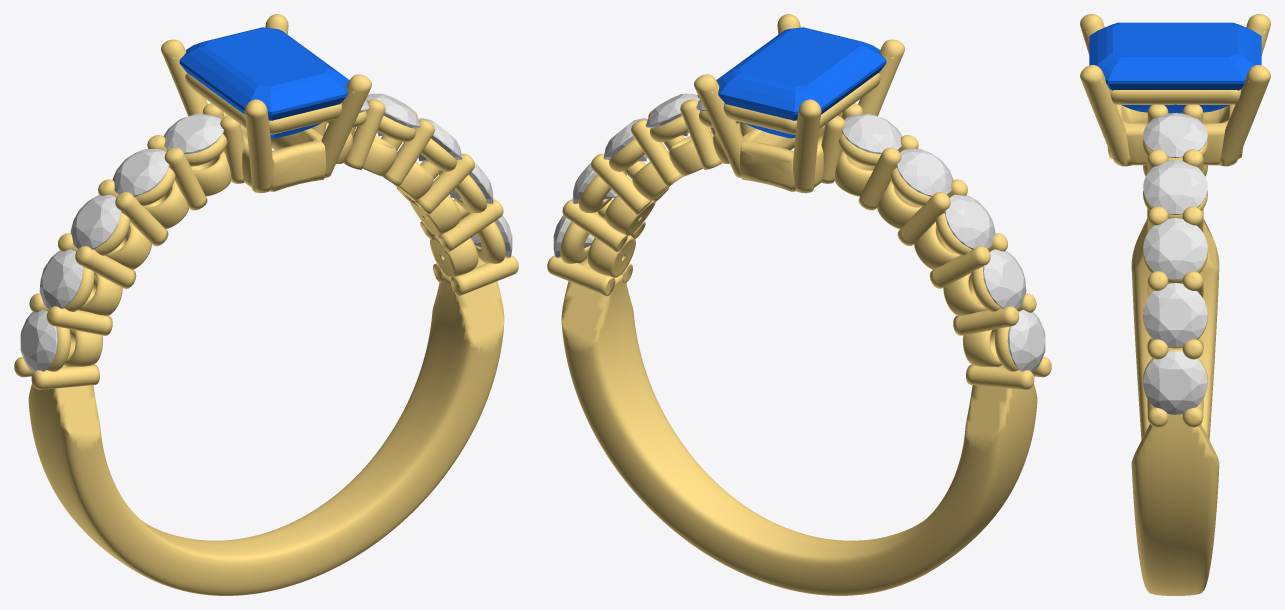
The model's file is bluesapphire-emerald-yellowgold-4prong-straighttaperedband-11stone.glb.
3 renders of one model, left to right at view 1: azimuth 30°, elevation 25°; view 2: azimuth 150°, elevation 25°; view 3: azimuth 270°, elevation 25°, orthographic.
Parts seen in each view (by area): view 1: metal, stone, side.004, side.003, side.005, side, side.006, side.010; view 2: metal, stone, side.004, side.003, side.005, side, side.006, side.010; view 3: metal, stone, side.008, side.007, side.009, side.010, side.011.
Boxes of the visible parts, x1,y1,x2,y2 form: metal: (14,14,518,595); stone: (179,27,349,138); side.004: (70,194,121,249); side.003: (39,249,82,308); side.005: (112,148,169,196); side: (20,309,58,371); side.006: (163,113,223,154); side.010: (366,93,420,136); metal: (547,14,1051,595); stone: (716,27,886,138); side.004: (944,194,995,249); side.003: (983,249,1026,308); side.005: (896,148,953,196); side: (1007,309,1045,371); side.006: (842,113,902,154); side.010: (645,93,699,136); metal: (1080,14,1270,595); stone: (1089,22,1261,113); side.008: (1143,283,1207,347); side.007: (1143,351,1207,414); side.009: (1143,218,1207,279); side.010: (1143,160,1207,214); side.011: (1143,113,1207,158).
Bounding box in the file's own units: 21.87 × 22.75 × 7.4.
